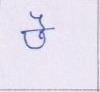ai_matra: (30, 11, 47, 28)
